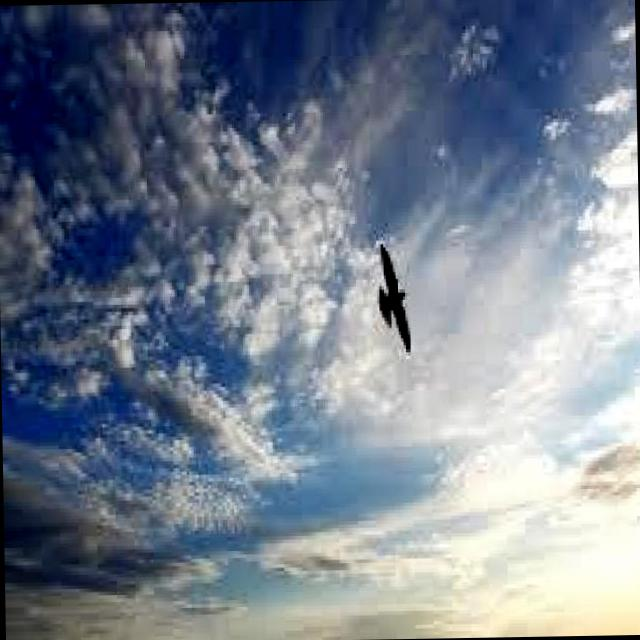bird: (376, 238, 416, 354)
